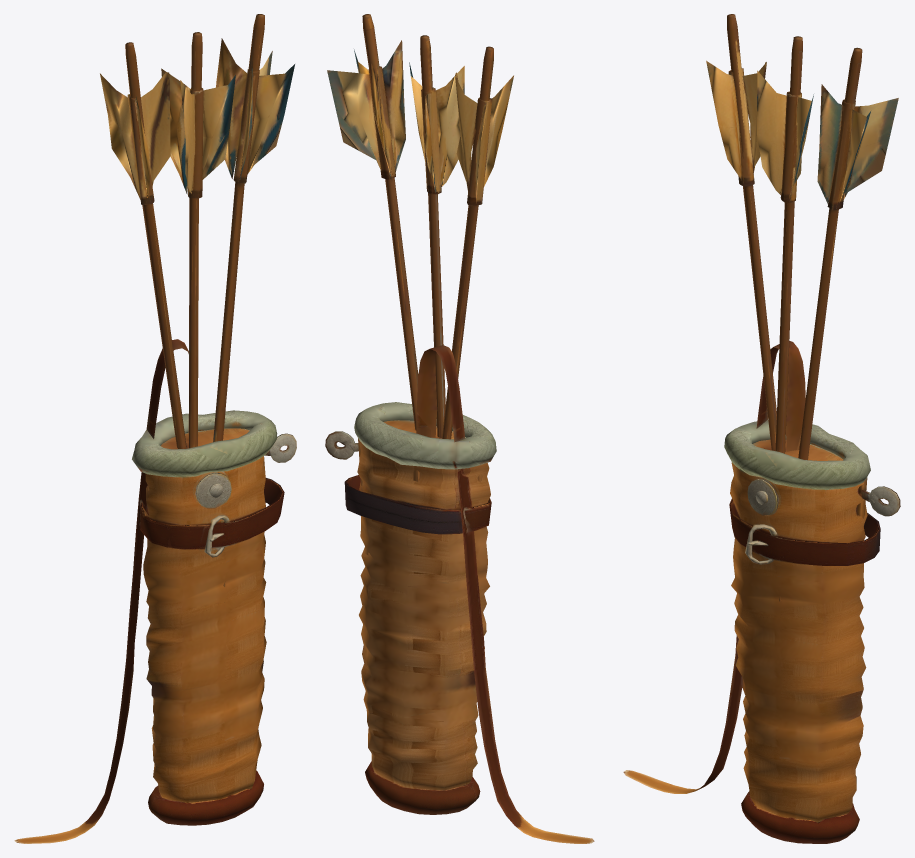
The model's file is woven-quiver_refine.glb.
The picture shows the model from 3 angles, left to right: view 1: azimuth 30°, elevation 25°; view 2: azimuth 150°, elevation 25°; view 3: azimuth 330°, elevation 25°; orthographic projection. The views are drawn at different scales.
Size of the model in its own units: 0.3516 by 0.9517 by 0.1157.
1 material, 1 textured.
